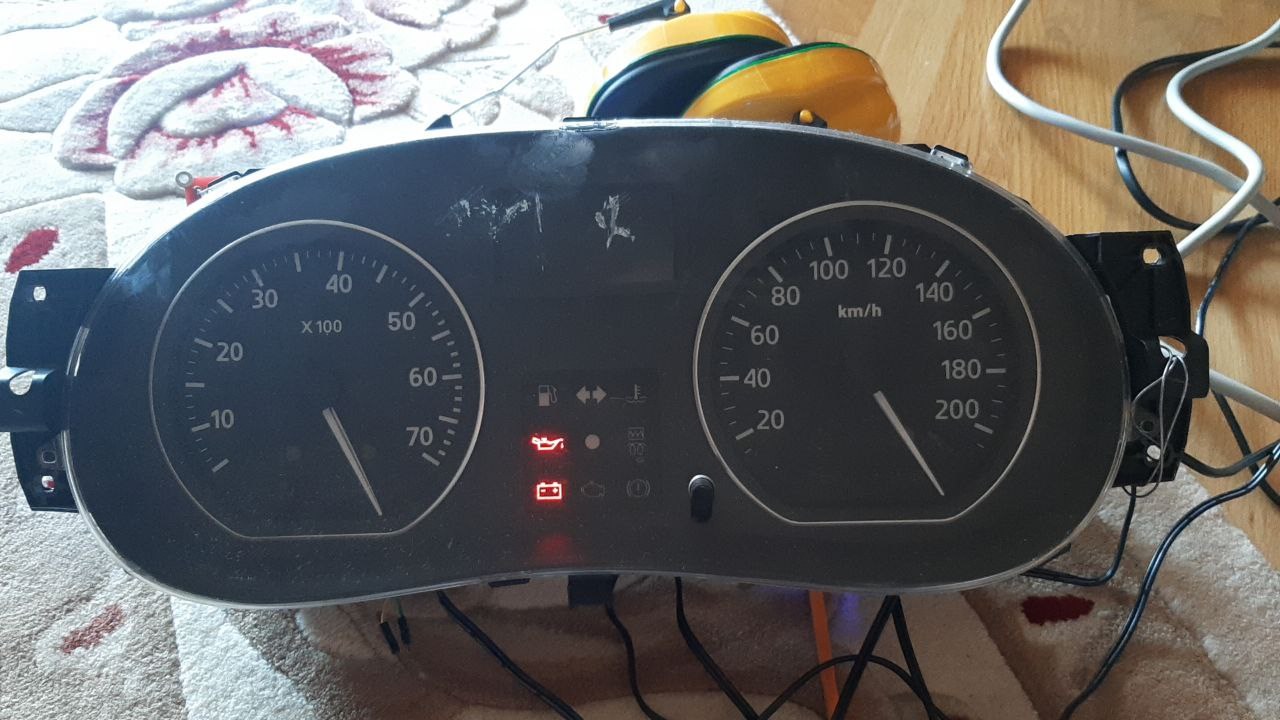accumulator: (529, 476, 567, 505)
oil: (531, 434, 567, 455)
